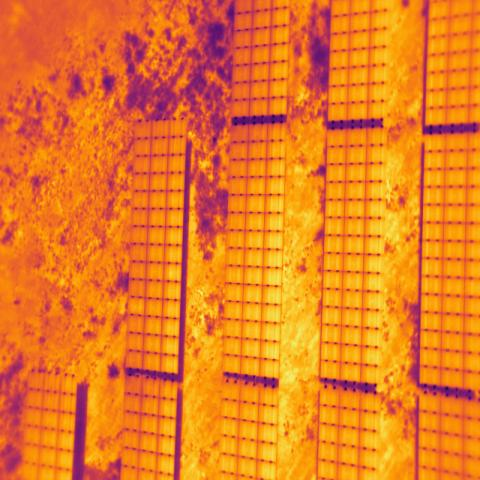fault: (126, 296, 144, 316)
